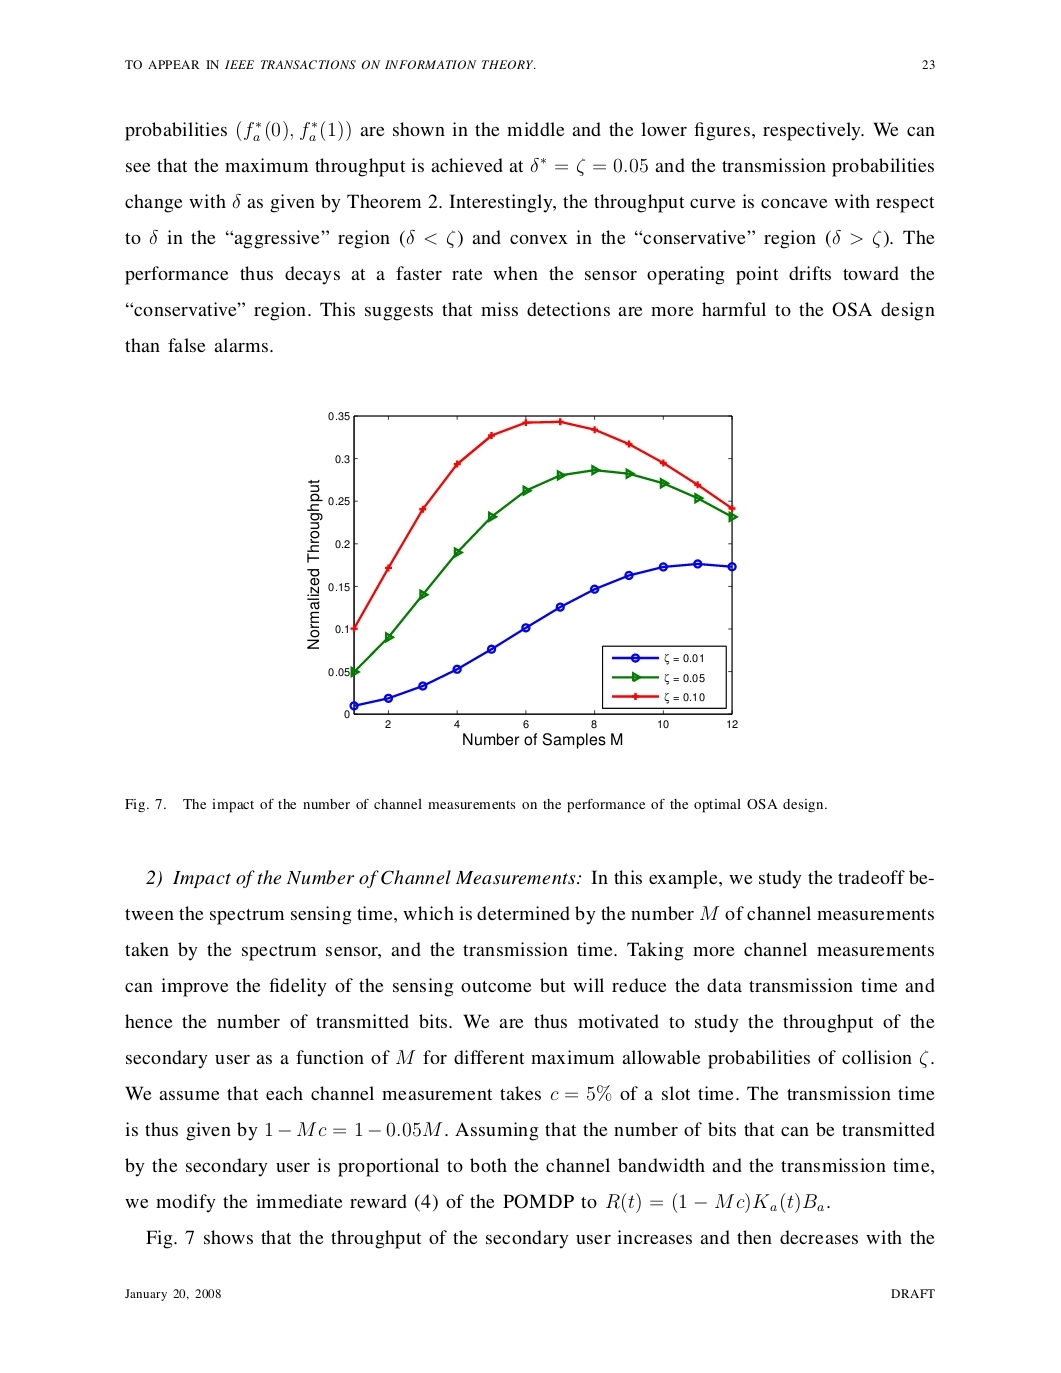figure: (306, 412, 738, 748)
